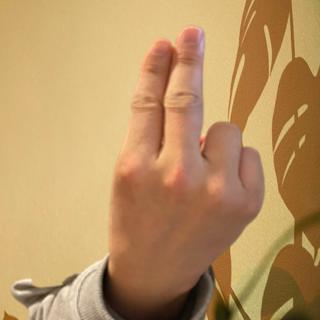DHAVE: (99, 22, 267, 302)
